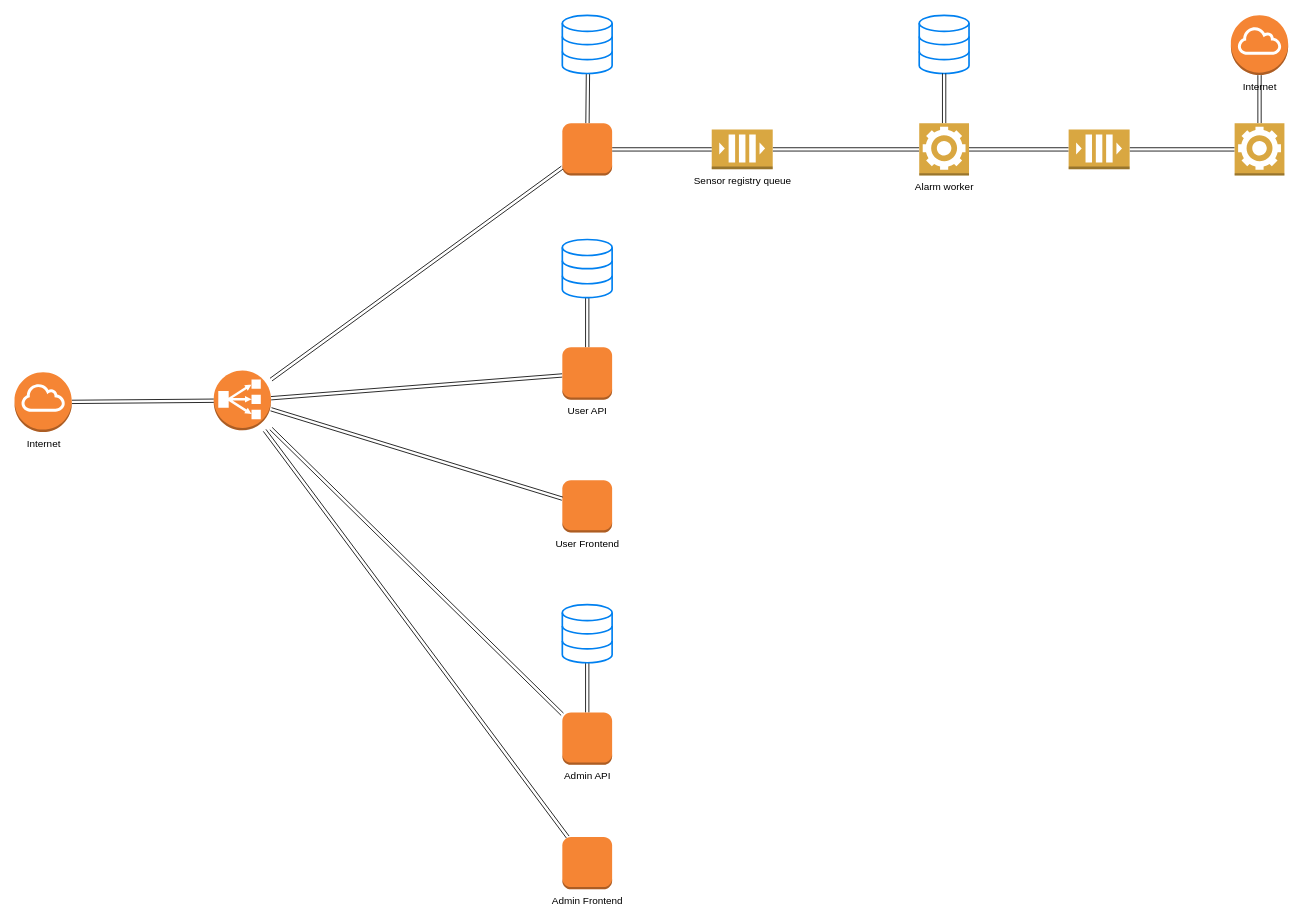
This 1304x920 diagram has some shape labels left out. The centre of each missing label's shape, as x and y in pixels:
Ingress: point (242, 400)
Mailer worker: point (1259, 149)
Mailing queue: point (1099, 149)
Station API: point (586, 149)
